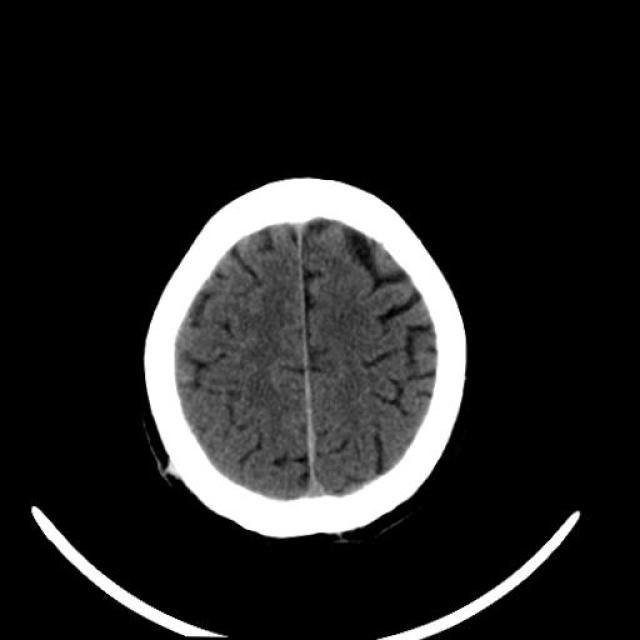Subdural: (256, 372, 352, 520)
